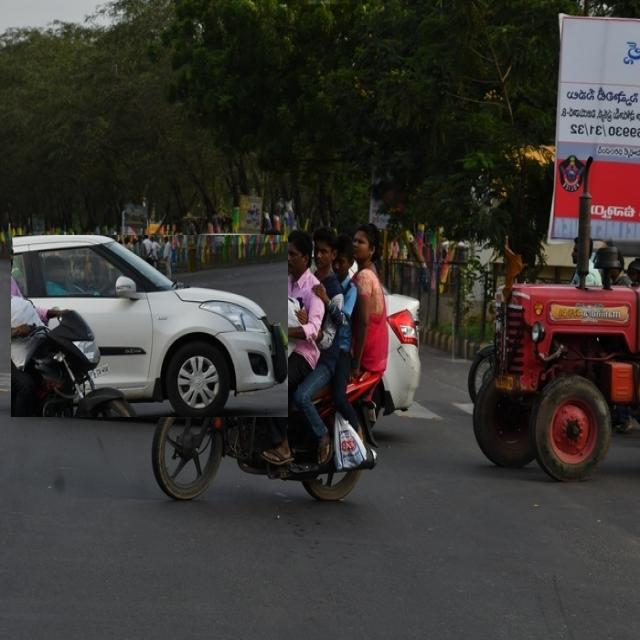car: (11, 235, 288, 417)
motorcycle: (152, 224, 388, 501)
truck: (470, 156, 640, 480)
